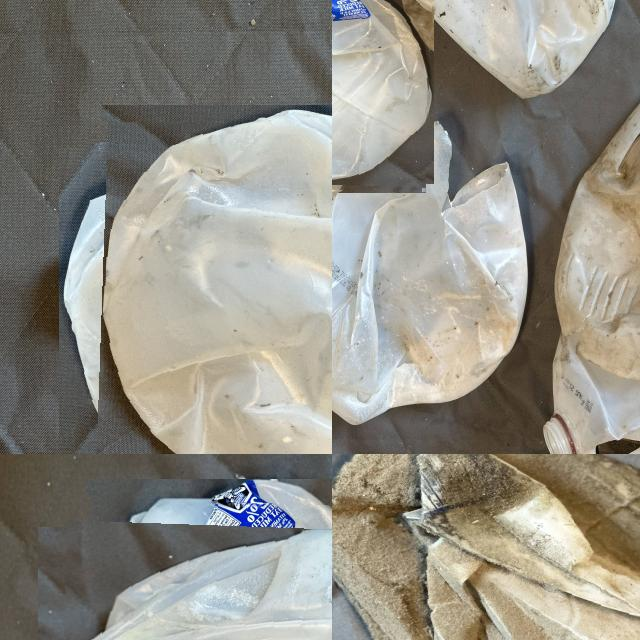milk-jug: (77, 123, 332, 454), (332, 454, 640, 640), (332, 152, 524, 426), (58, 500, 332, 640), (555, 49, 640, 388), (362, 0, 629, 98), (332, 0, 432, 190), (533, 328, 640, 454)
